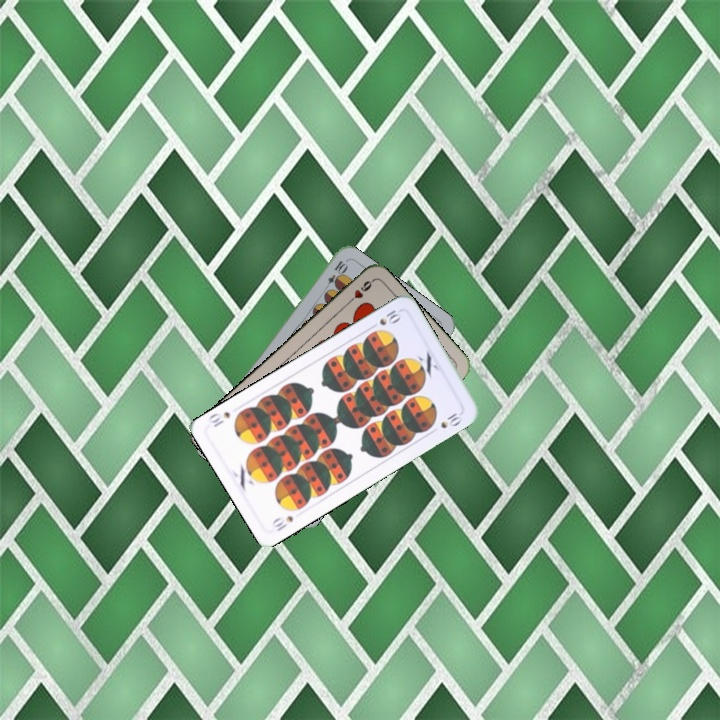E10: (320, 257, 349, 294)
H9: (343, 276, 376, 308)
S10: (366, 305, 404, 332), (268, 511, 296, 534)
